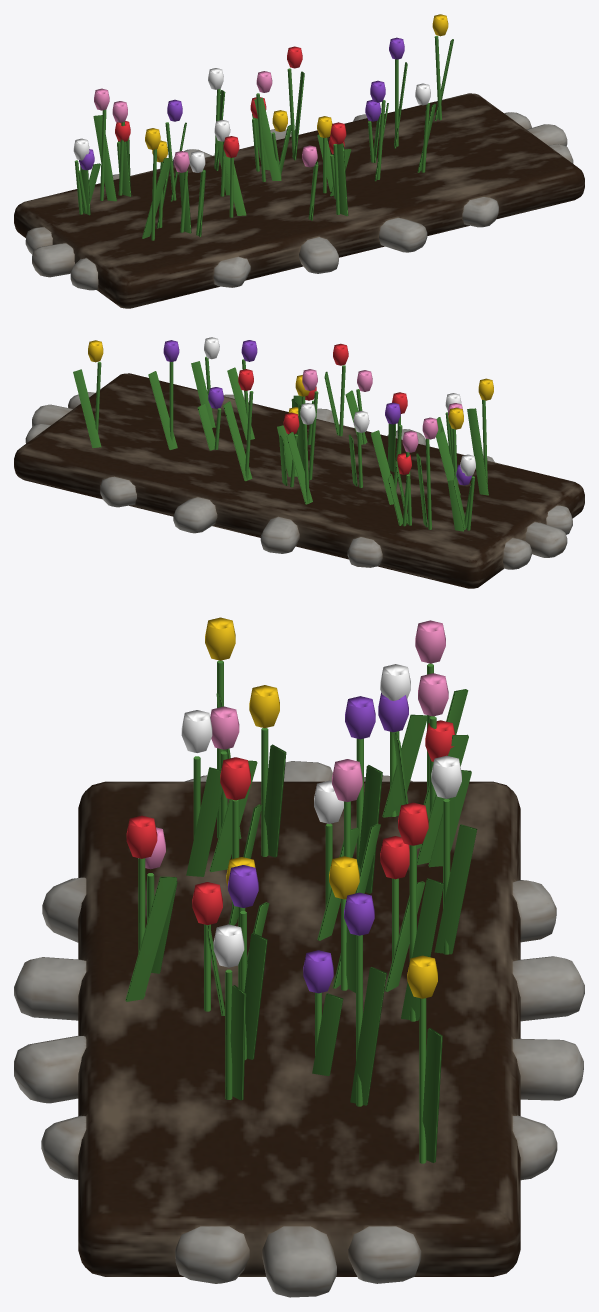
File: pod_kwiaty.glb
3 views of the same model, one above another, from view 1: azimuth 30°, elevation 25°; view 2: azimuth 150°, elevation 25°; view 3: azimuth 270°, elevation 25° (orthographic). The views are drawn at different scales.
Parts seen in each view (by area): view 1: Rabata, Kwiaty; view 2: Rabata, Kwiaty; view 3: Rabata, Kwiaty.
Part boxes in pixels (x1,y1,x2,y2): Rabata: [14, 93, 584, 308]; Kwiaty: [73, 14, 453, 240]; Rabata: [14, 373, 584, 588]; Kwiaty: [73, 337, 493, 531]; Rabata: [14, 761, 584, 1297]; Kwiaty: [125, 617, 477, 1163].
Bounding box in the file's own units: 1.35 × 0.3471 × 0.6455.
7 materials, 1 textured.
